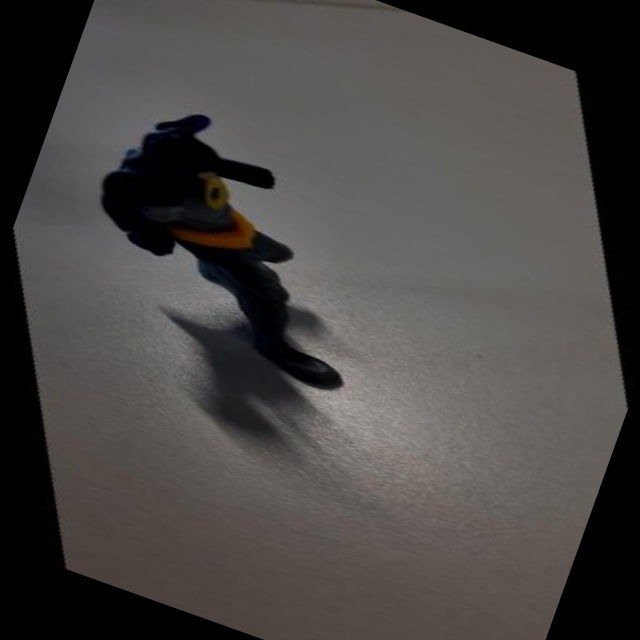Batman: (8, 60, 439, 429)
